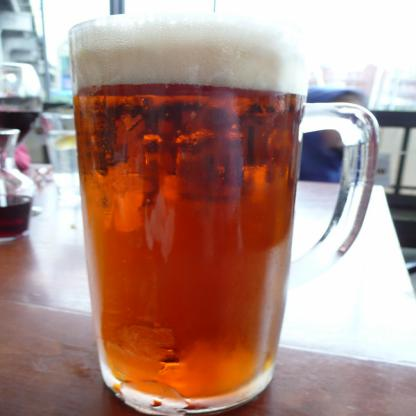drinking: (70, 11, 380, 416)
